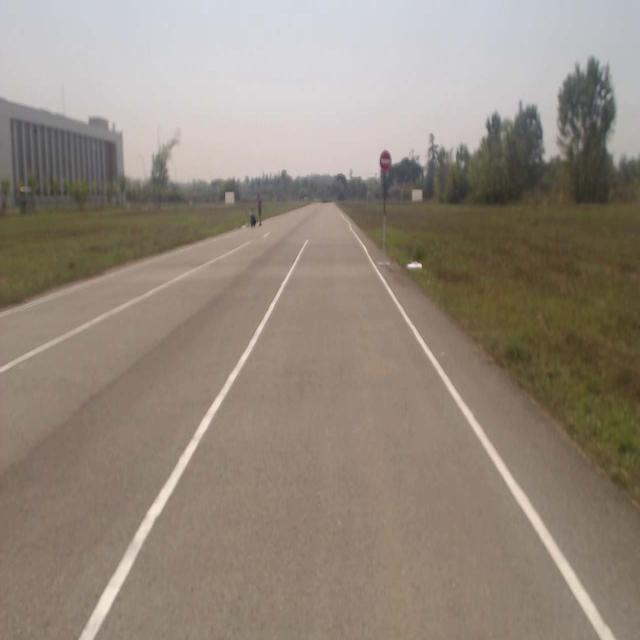girisyok: (380, 150, 392, 172)
